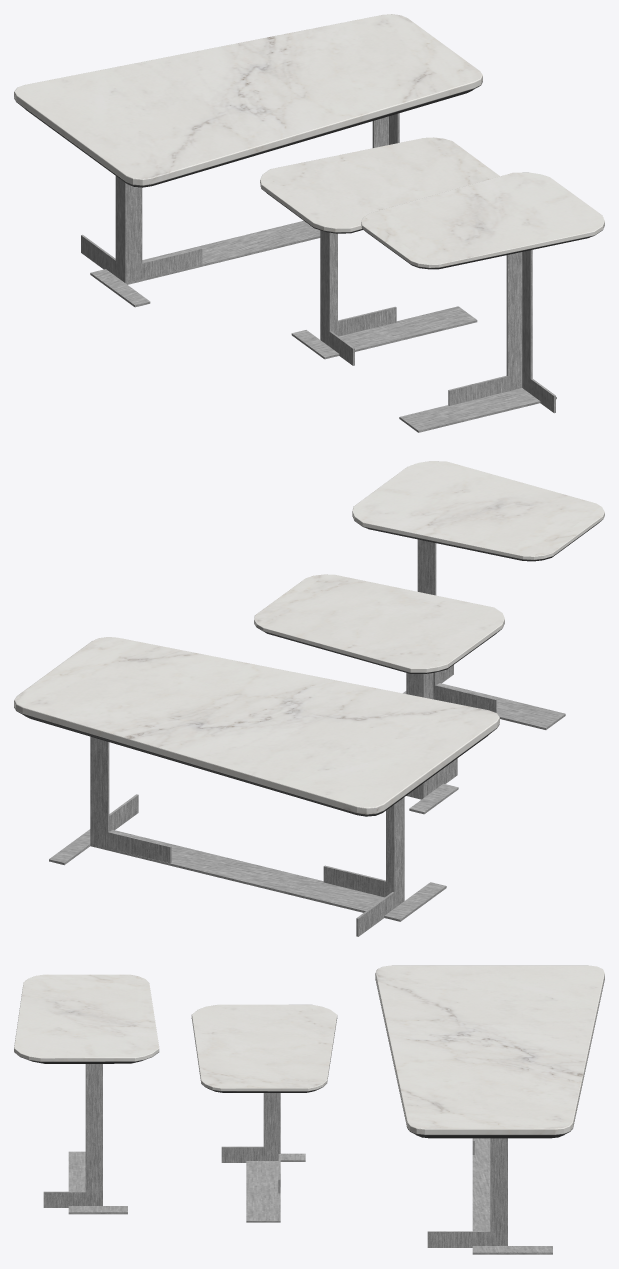
The model's file is SBH_Surefooted.glb.
The picture shows the model from 3 angles, top to bottom: view 1: azimuth 30°, elevation 25°; view 2: azimuth 150°, elevation 25°; view 3: azimuth 270°, elevation 25°; orthographic projection. The views are drawn at different scales.
Visible parts, largest first — view 1: Surefooted; view 2: Surefooted; view 3: Surefooted.
Boxes of the visible parts, x1=… form: Surefooted: x1=14, y1=14, x2=604, y2=432; Surefooted: x1=14, y1=461, x2=604, y2=936; Surefooted: x1=14, y1=965, x2=604, y2=1254.
Size of the model in its own units: 1.14 by 0.5507 by 1.74.
Materials: 3 (2 with a texture image).
